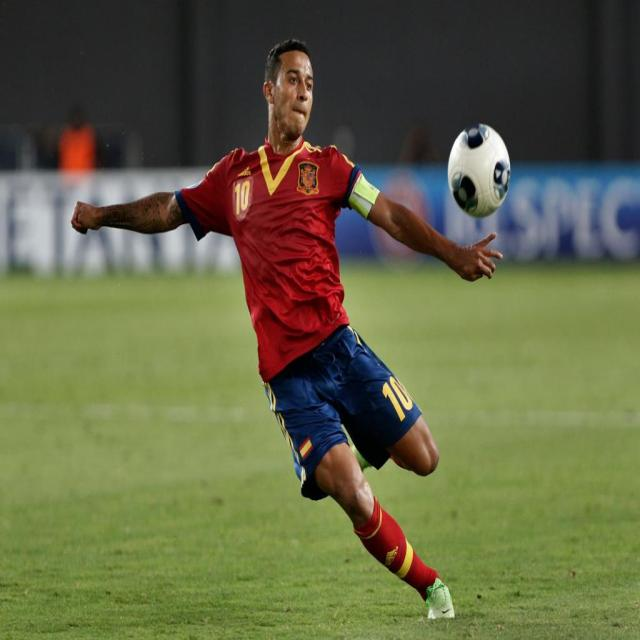Face: (268, 45, 320, 146)
